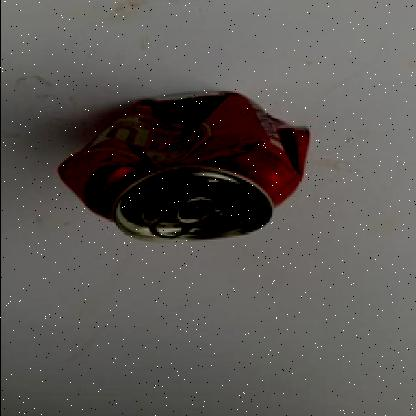Can: (54, 92, 310, 244)
